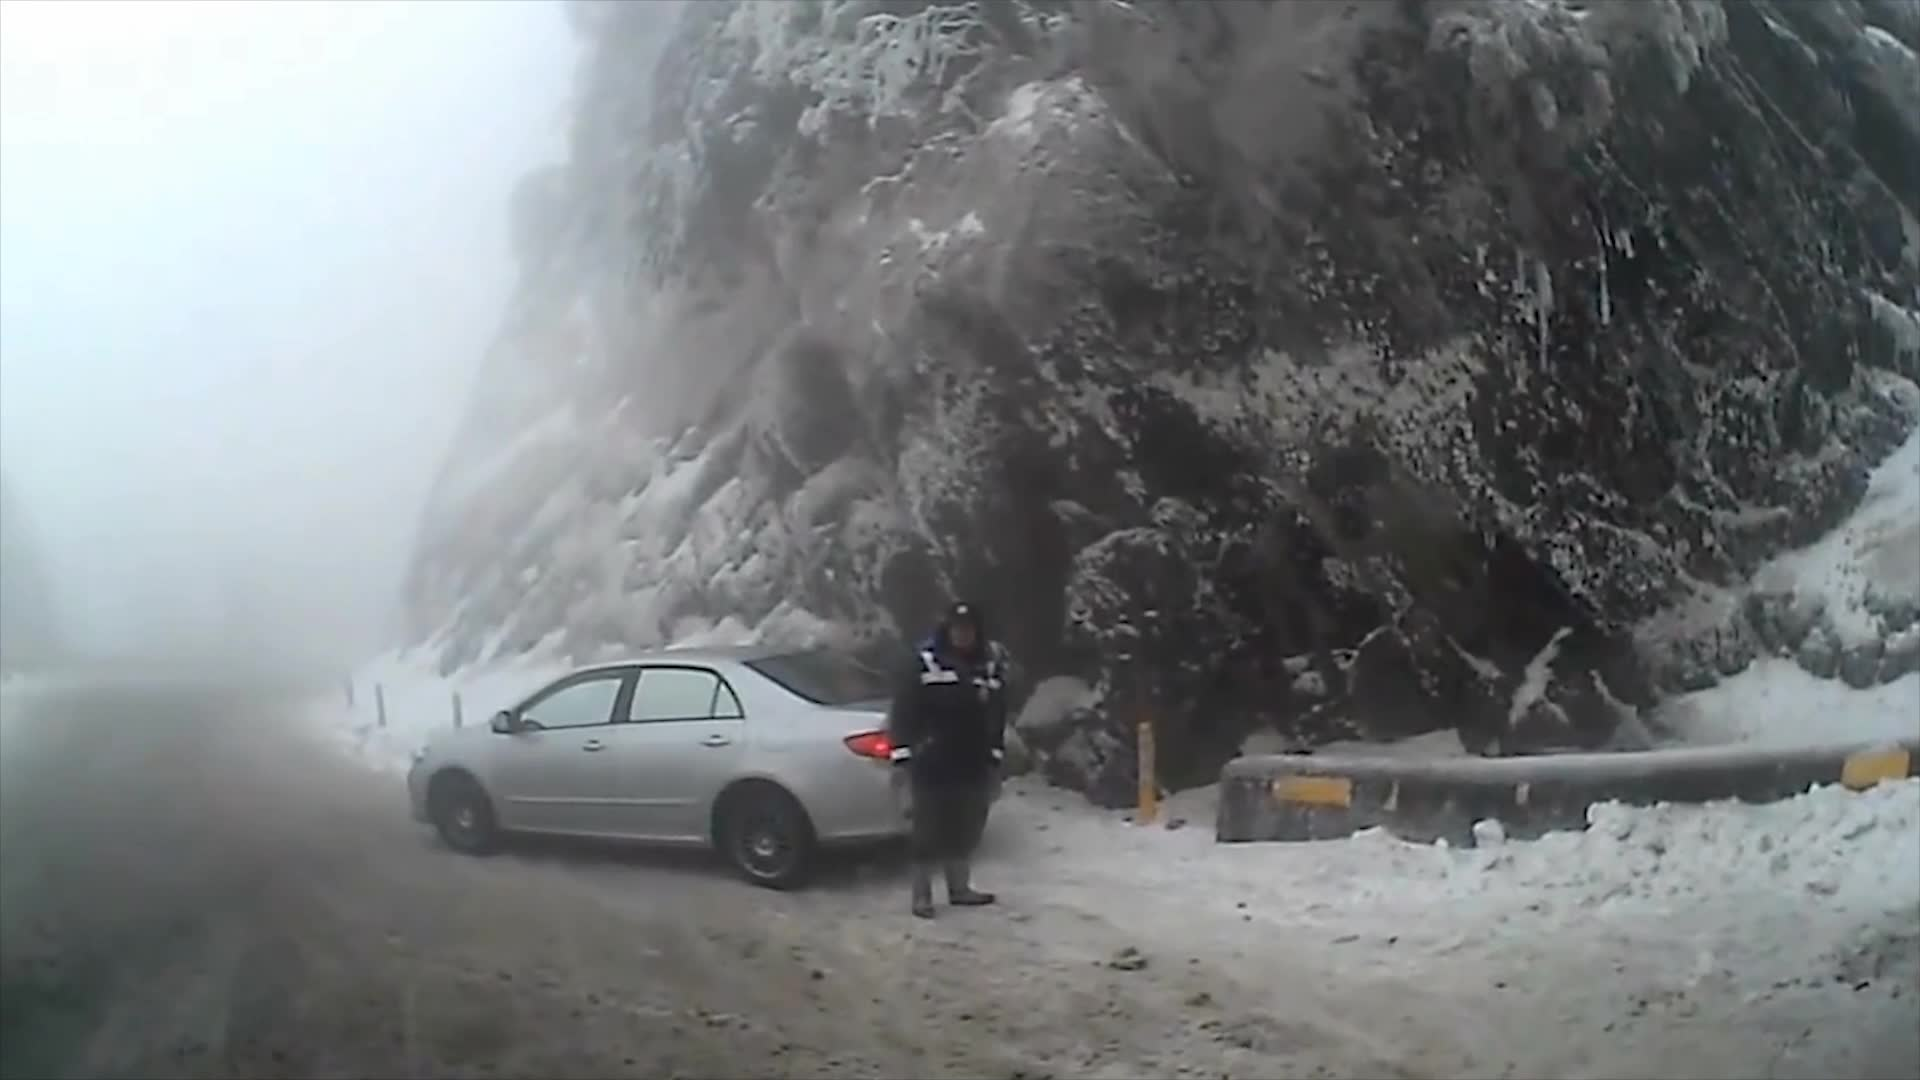pedestrian: (888, 601, 1004, 919)
vehicle: (403, 642, 1002, 893)
